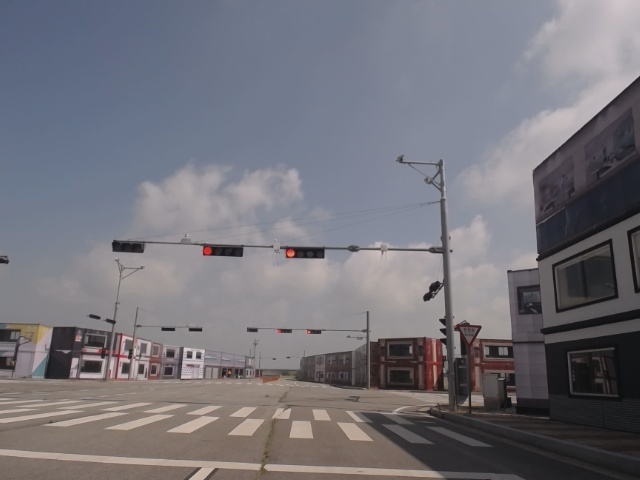red_4: (204, 244, 242, 257), (287, 247, 324, 259)
